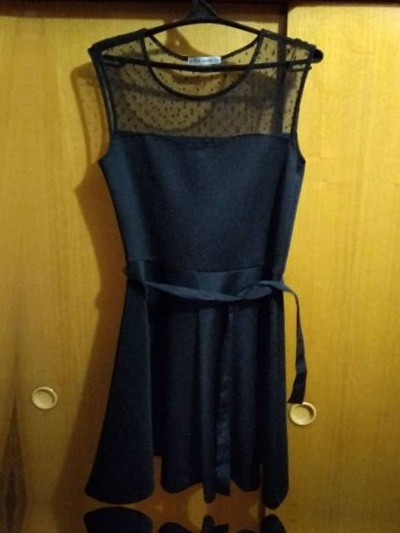Dress: (43, 13, 344, 508), (23, 510, 323, 533)
